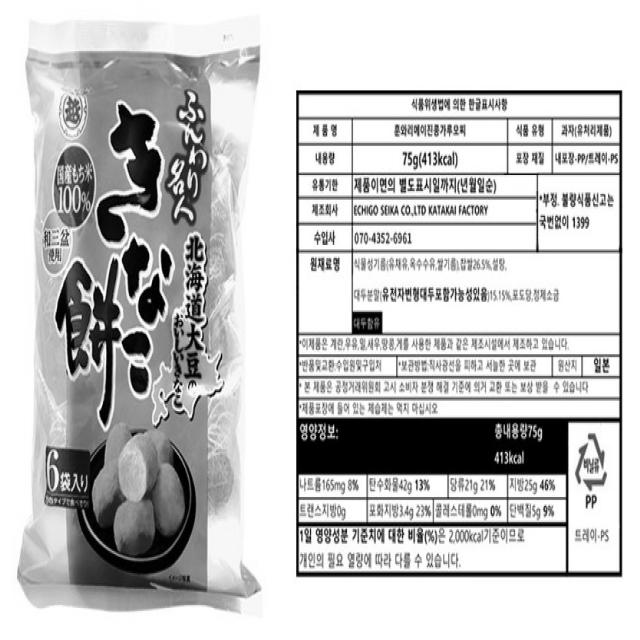Nutrition Label: (295, 419, 568, 575)
